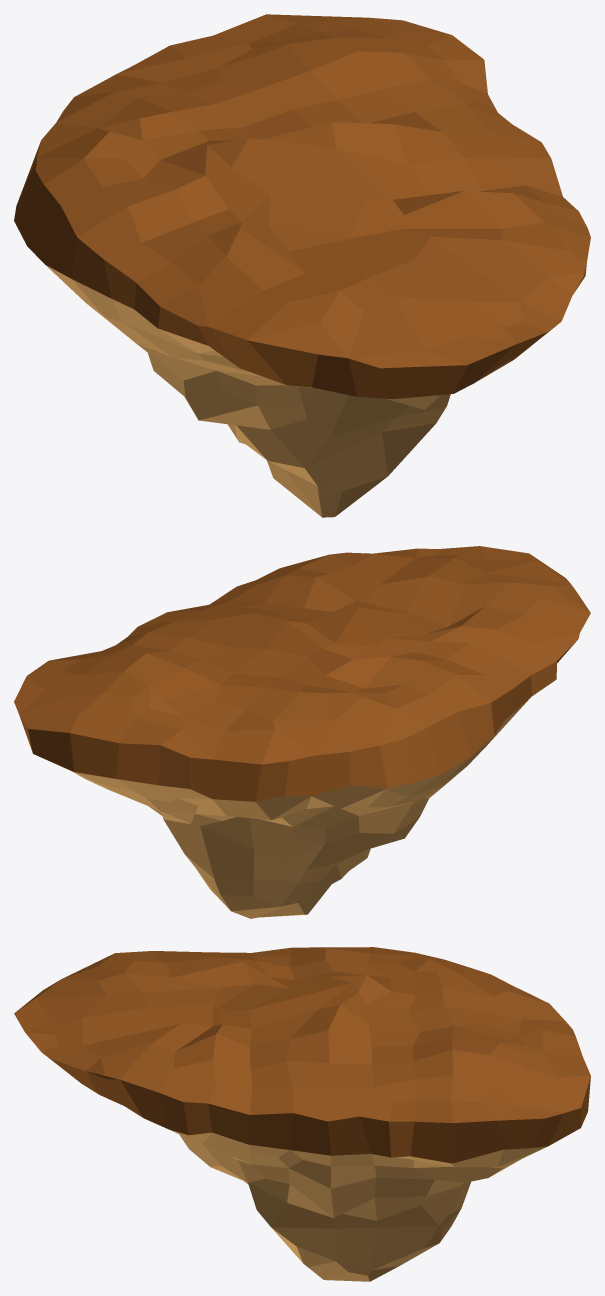
The model's file is desertIsland.fbx.
The picture shows the model from 3 angles, top to bottom: view 1: azimuth 30°, elevation 25°; view 2: azimuth 150°, elevation 25°; view 3: azimuth 270°, elevation 25°; orthographic projection. The views are drawn at different scales.
Parts seen in each view (by area): view 1: Icosphere; view 2: Icosphere; view 3: Icosphere.
Part boxes in pixels (<box>): Icosphere: <box>14,14,590,517</box>; Icosphere: <box>14,546,590,918</box>; Icosphere: <box>14,947,590,1281</box>.
Size of the model in its own units: 1628 by 1206 by 2269.
